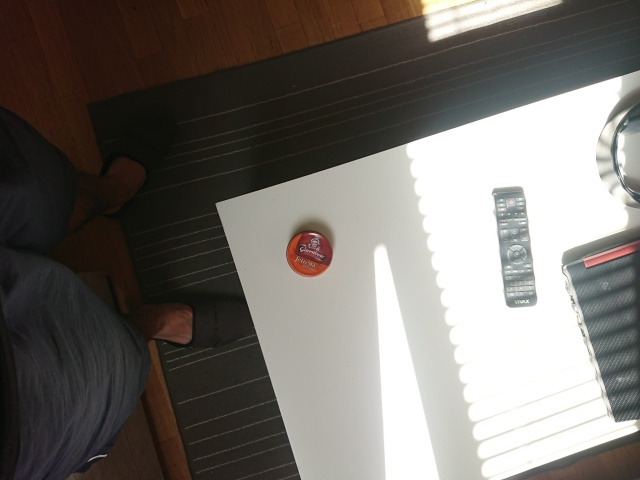Gavrilovic Pork Liver Pate 100g: (284, 228, 334, 278)
